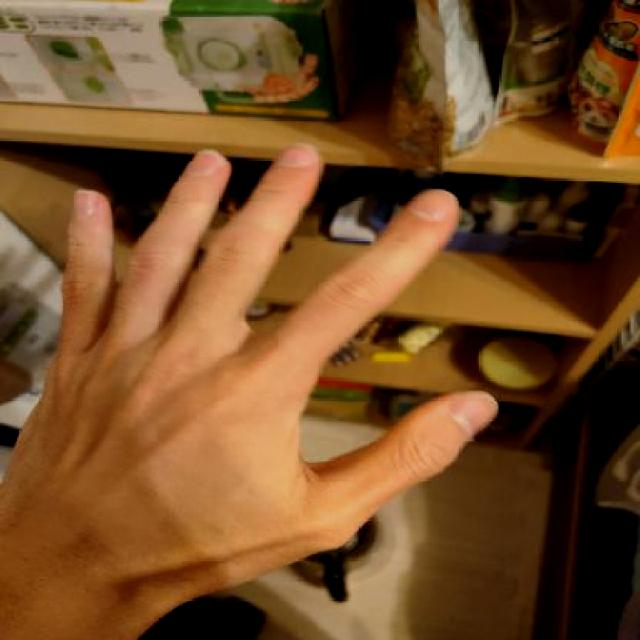no_glove: (1, 128, 508, 610)
